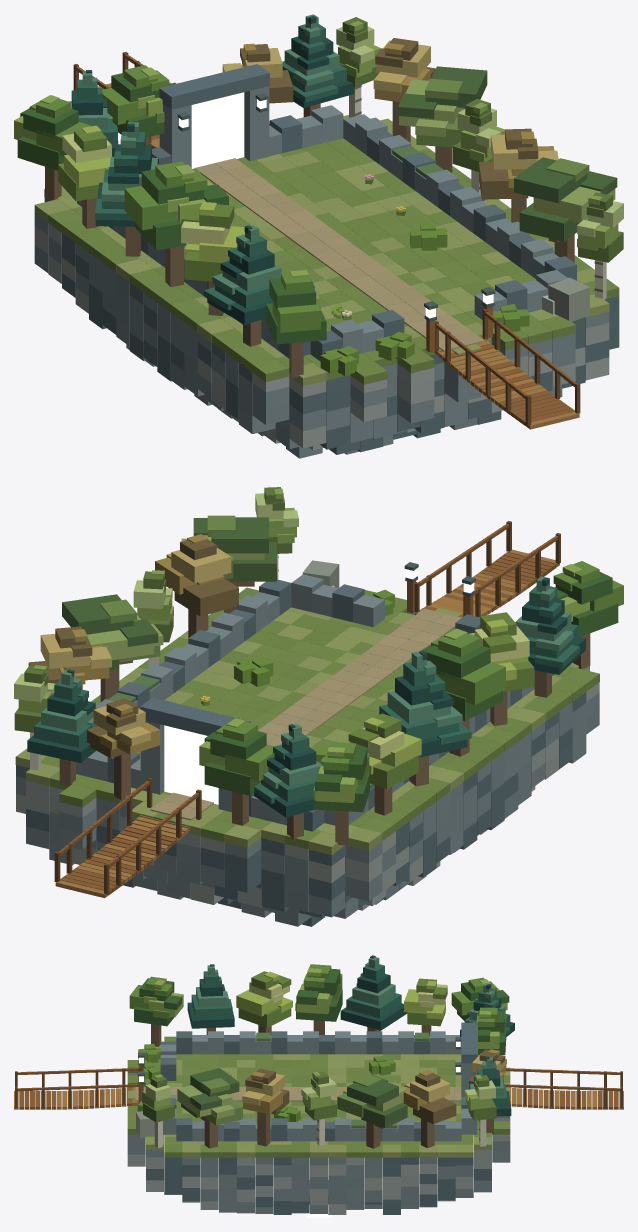
The model's file is room_empty_purified.glb.
3 views of the same model, one above another, from view 1: azimuth 30°, elevation 25°; view 2: azimuth 150°, elevation 25°; view 3: azimuth 270°, elevation 25° (orthographic). The views are drawn at different scales.
Visible parts, largest first — view 1: room_empty_blocks, tree0_(0, 0).002, tree3_(0, 0).001, tree3_(0, 0).002, tree2_(0, 0).001, tree2_(0, 0).004, tree0_(0, 0).001, tree2_(0, 0).002, tree0_(0, 0).003, tree4_(0, 0).001, tree5_(0, 0).001, tree0_(0, 0).004 (+12 smaller); view 2: room_empty_blocks, tree2_(0, 0).002, tree3_(0, 0).002, tree5_(0, 0).001, tree0_(0, 0).002, tree0_(0, 0).004, tree2_(0, 0).001, tree2_(0, 0).004, tree2_(0, 0).003, tree3_(0, 0).001, tree4_(0, 0).002, tree0_(0, 0).001 (+9 smaller); view 3: room_empty_blocks, tree3_(0, 0).001, tree3_(0, 0).002, tree2_(0, 0).002, tree4_(0, 0).001, tree0_(0, 0).002, tree5_(0, 0).002, tree0_(0, 0).001, tree5_(0, 0).001, tree2_(0, 0).001, tree4_(0, 0).002, tree1_(0, 0).002 (+9 smaller).
Part boxes in pixels (x1,y1,x2,y2): room_empty_blocks: (34, 52, 619, 458); tree0_(0, 0).002: (124, 161, 228, 286); tree3_(0, 0).001: (514, 157, 617, 262); tree3_(0, 0).002: (398, 66, 487, 172); tree2_(0, 0).001: (204, 225, 281, 346); tree2_(0, 0).004: (282, 14, 354, 116); tree0_(0, 0).001: (266, 270, 326, 377); tree2_(0, 0).002: (95, 122, 157, 256); tree0_(0, 0).003: (14, 95, 91, 200); tree4_(0, 0).001: (181, 202, 244, 315); tree5_(0, 0).001: (479, 128, 558, 222); tree0_(0, 0).004: (102, 65, 175, 144); room_empty_blocks: (15, 521, 599, 926); tree2_(0, 0).002: (379, 650, 471, 786); tree3_(0, 0).002: (62, 594, 163, 701); tree5_(0, 0).001: (155, 534, 238, 637); tree0_(0, 0).002: (420, 628, 505, 756); tree0_(0, 0).004: (199, 718, 274, 825); tree2_(0, 0).001: (515, 576, 585, 697); tree2_(0, 0).004: (27, 669, 97, 786); tree2_(0, 0).003: (254, 724, 322, 840); tree3_(0, 0).001: (181, 515, 276, 613); tree4_(0, 0).002: (348, 713, 421, 815); tree0_(0, 0).001: (551, 561, 623, 668); room_empty_blocks: (14, 1022, 623, 1217); tree3_(0, 0).001: (177, 1068, 242, 1148); tree3_(0, 0).002: (337, 1074, 407, 1148); tree2_(0, 0).002: (340, 955, 407, 1031); tree4_(0, 0).001: (236, 971, 292, 1034); tree0_(0, 0).002: (295, 964, 342, 1034); tree5_(0, 0).002: (403, 1070, 456, 1148); tree0_(0, 0).001: (129, 976, 183, 1046); tree5_(0, 0).001: (242, 1068, 289, 1146); tree2_(0, 0).001: (187, 964, 234, 1034); tree4_(0, 0).002: (404, 978, 447, 1034); tree1_(0, 0).002: (301, 1071, 336, 1145).
Size of the model in its own units: 19.57 by 14.28 by 38.5.
